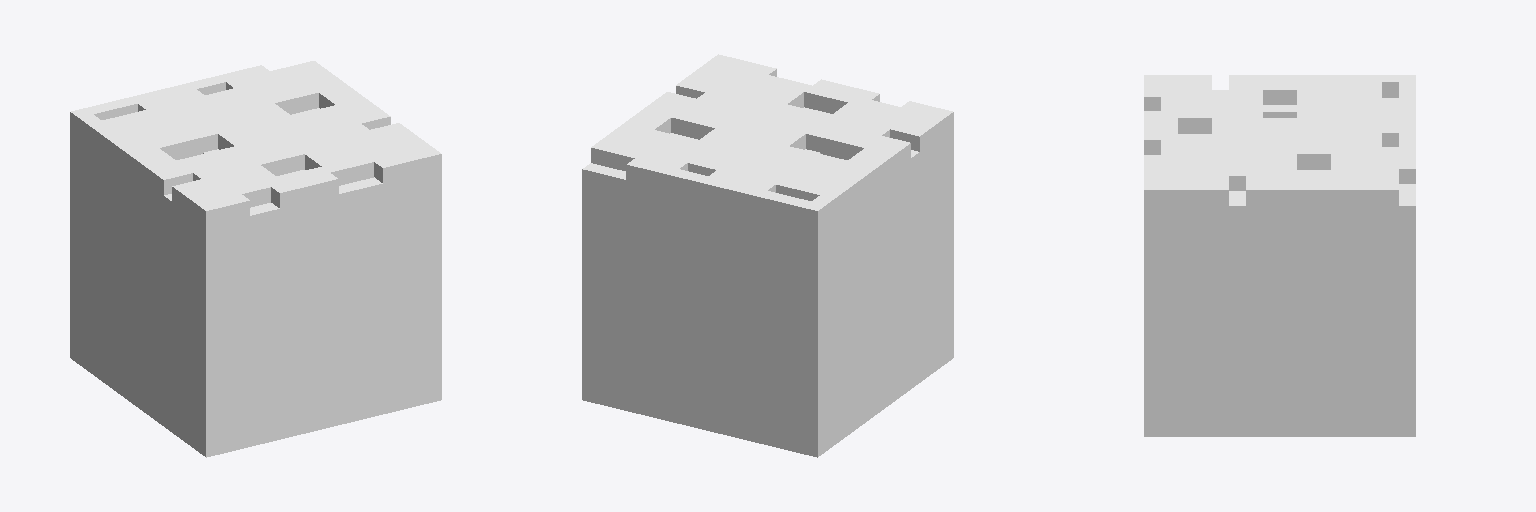
Rendered from stone.obj.
3 views of the same model, side by side, from view 1: azimuth 30°, elevation 25°; view 2: azimuth 150°, elevation 25°; view 3: azimuth 270°, elevation 25° (orthographic).
Size of the model in its own units: 16 by 16 by 16.